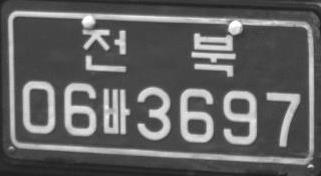0: (21, 79, 56, 135)
3: (136, 85, 171, 140)
6: (178, 86, 215, 143), (63, 80, 96, 136)
7: (265, 90, 302, 148)
9: (222, 89, 257, 145)
바: (101, 87, 130, 135)
전북_D: (82, 27, 236, 78)
